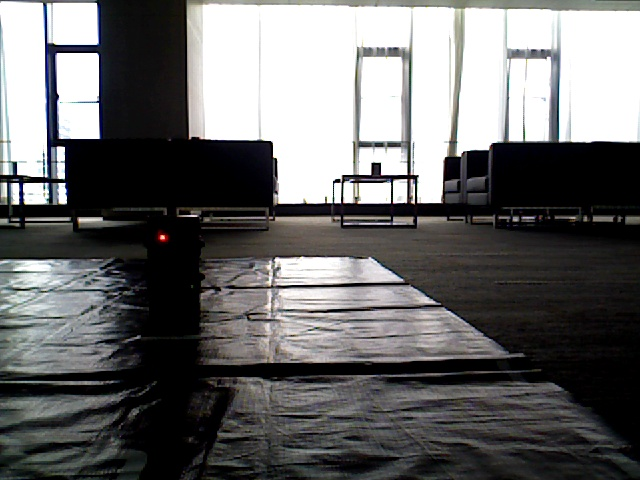red: (142, 217, 198, 314)
